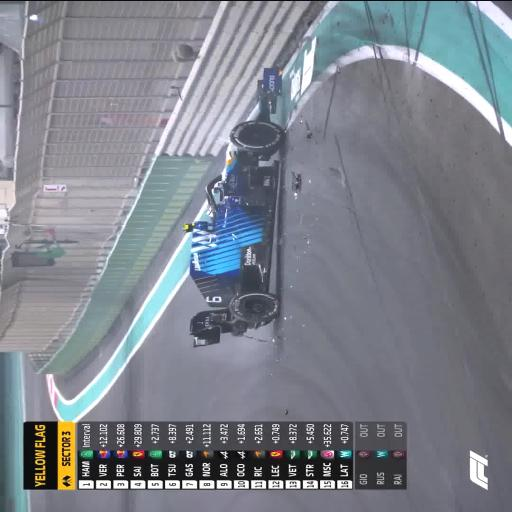f1_car: (184, 93, 284, 346), (258, 81, 261, 86)
